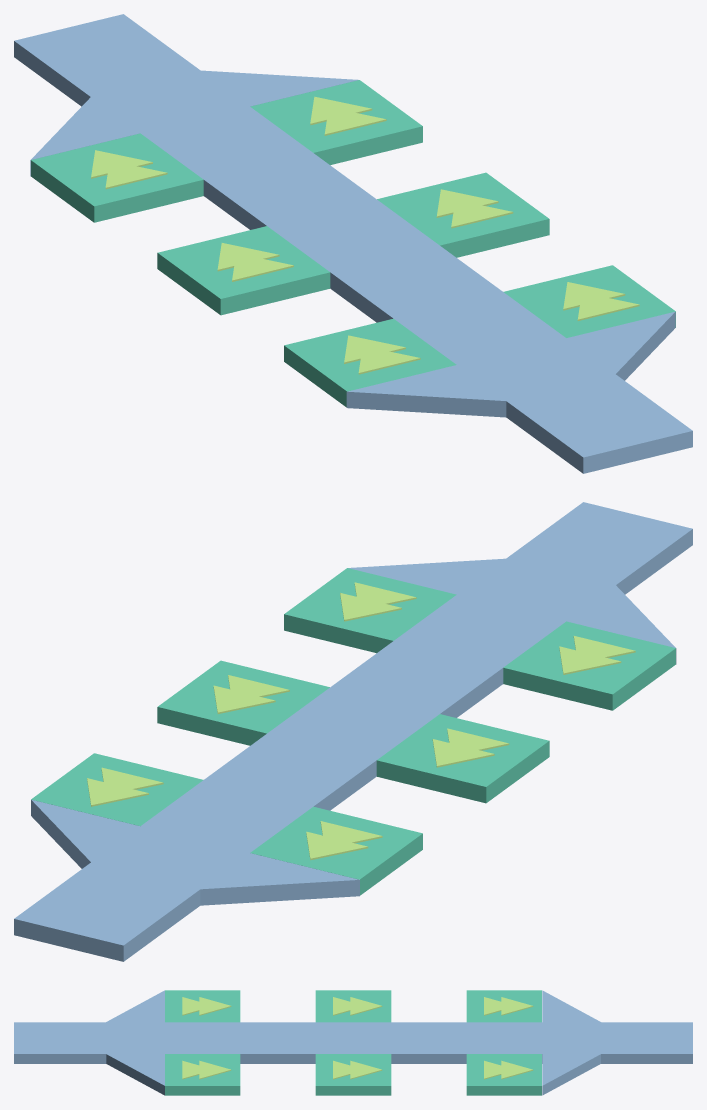
The model's file is jump.fbx.
The picture shows the model from 3 angles, top to bottom: view 1: azimuth 30°, elevation 25°; view 2: azimuth 150°, elevation 25°; view 3: azimuth 270°, elevation 25°; orthographic projection. The views are drawn at different scales.
Visible parts, largest first — view 1: floor_2, jump, floor; view 2: floor_2, jump, floor; view 3: floor_2, jump, floor.
Part boxes in pixels (x1,y1,x2,y2): floor_2: (14, 14, 692, 473); jump: (31, 80, 675, 407); floor: (30, 70, 675, 417); floor_2: (14, 502, 692, 961); jump: (31, 568, 675, 895); floor: (31, 558, 676, 905); floor_2: (14, 1022, 692, 1063); jump: (165, 990, 541, 1095); floor: (106, 990, 600, 1095).
Size of the model in its own units: 1051 by 55 by 3150.
